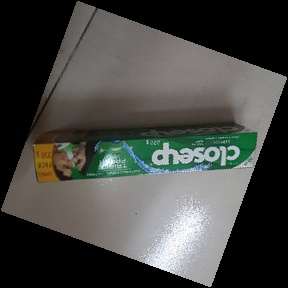CloseUp Xanh: (32, 122, 258, 185)
